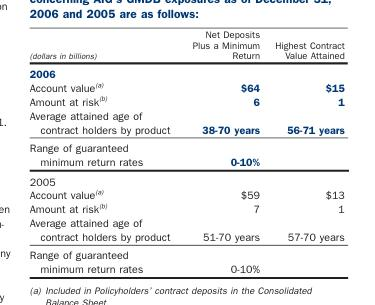table: (28, 28, 343, 274)
table column: (28, 28, 180, 274), (180, 28, 266, 274), (266, 28, 343, 274)
table column header: (28, 28, 343, 63)
table projected row header: (28, 63, 343, 79), (28, 170, 343, 186)
table row: (28, 28, 343, 63), (28, 138, 343, 170), (28, 108, 343, 138), (28, 215, 343, 245), (28, 245, 343, 274), (28, 63, 343, 79), (28, 170, 343, 186), (28, 93, 343, 108), (28, 200, 343, 215), (28, 79, 343, 93), (28, 186, 343, 200)
